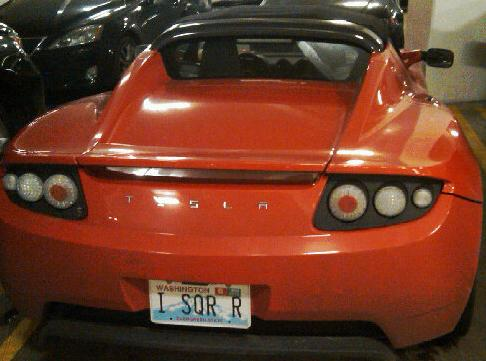license plate: (147, 276, 254, 330)
